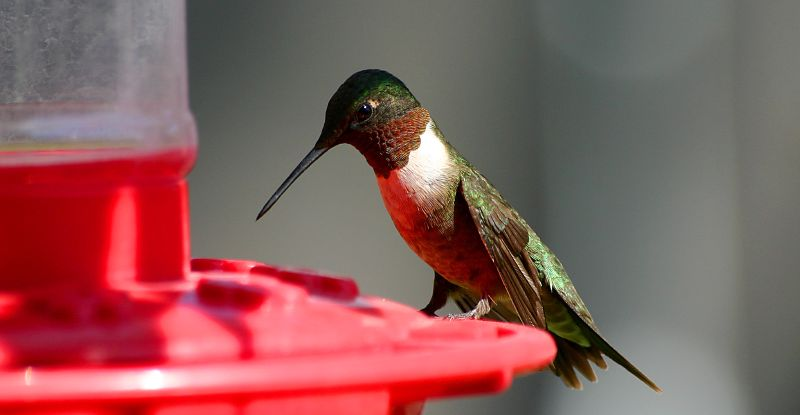archilochus alexandri: (252, 67, 660, 392)
